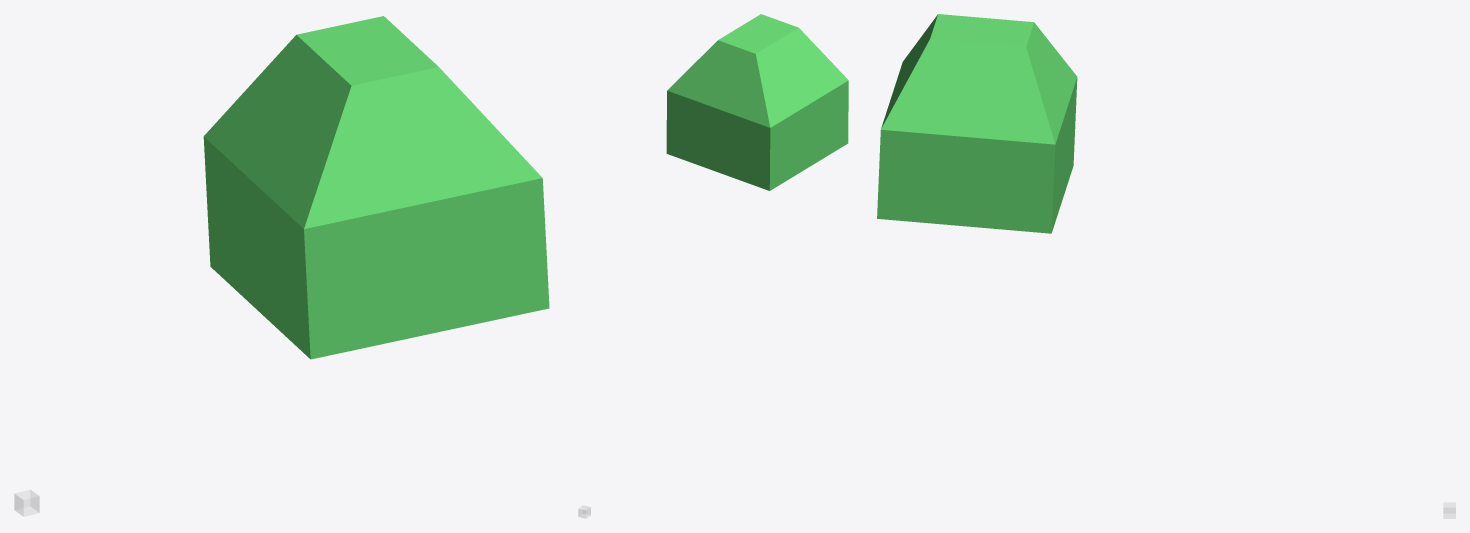
The model's file is Candy9.glb.
3 views of the same model, side by side, from view 1: azimuth 30°, elevation 25°; view 2: azimuth 150°, elevation 25°; view 3: azimuth 270°, elevation 25° (orthographic). The views are drawn at different scales.
Parts seen in each view (by area): view 1: Cube; view 2: Cube; view 3: Cube.
Boxes of the visible parts, box(x1,y1,x2,y2) form: Cube: box(203, 16, 549, 359); Cube: box(666, 14, 848, 190); Cube: box(877, 14, 1077, 233).
Bounding box in the file's own units: 0.0318 × 0.0855 × 0.092.
